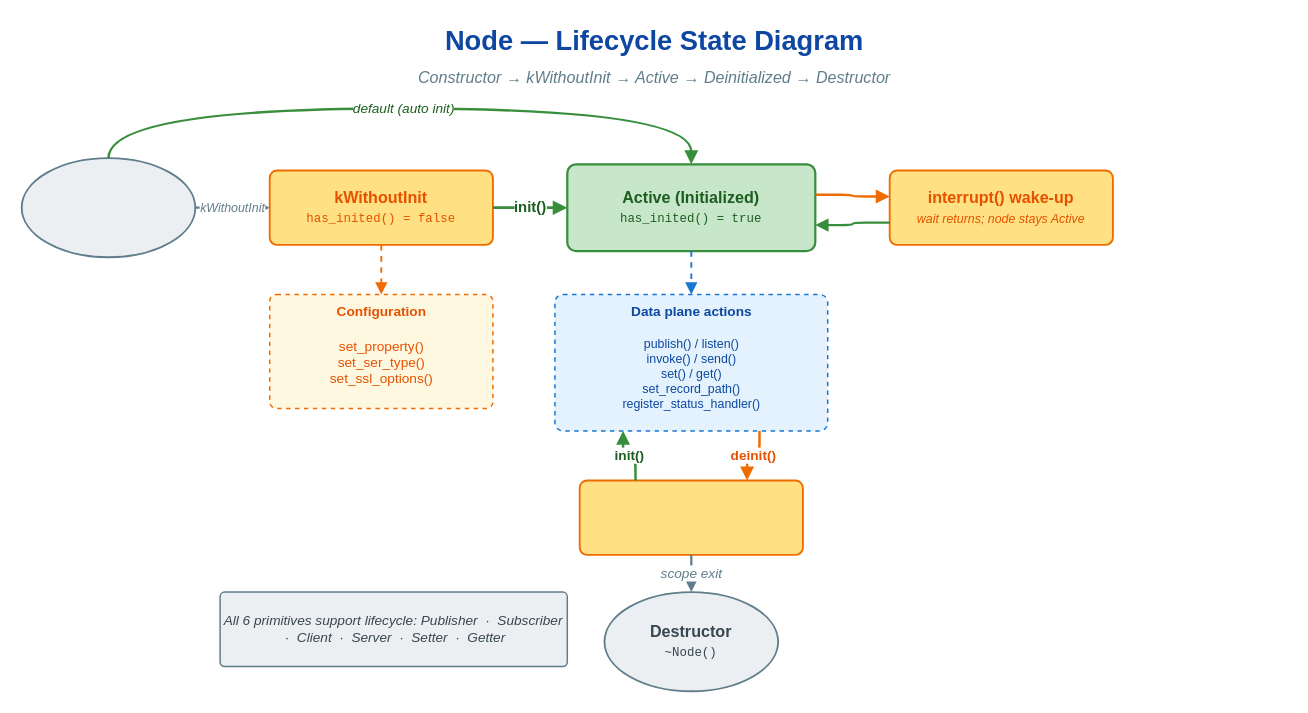
Image size: 1308x713. Some labels were removed from this diagram. Each missing label, with the centre of its shape:
"Constructor Node(url)" goes at pixel 108 207.
"Deinitialized has_inited() = false" goes at pixel 690 517.
